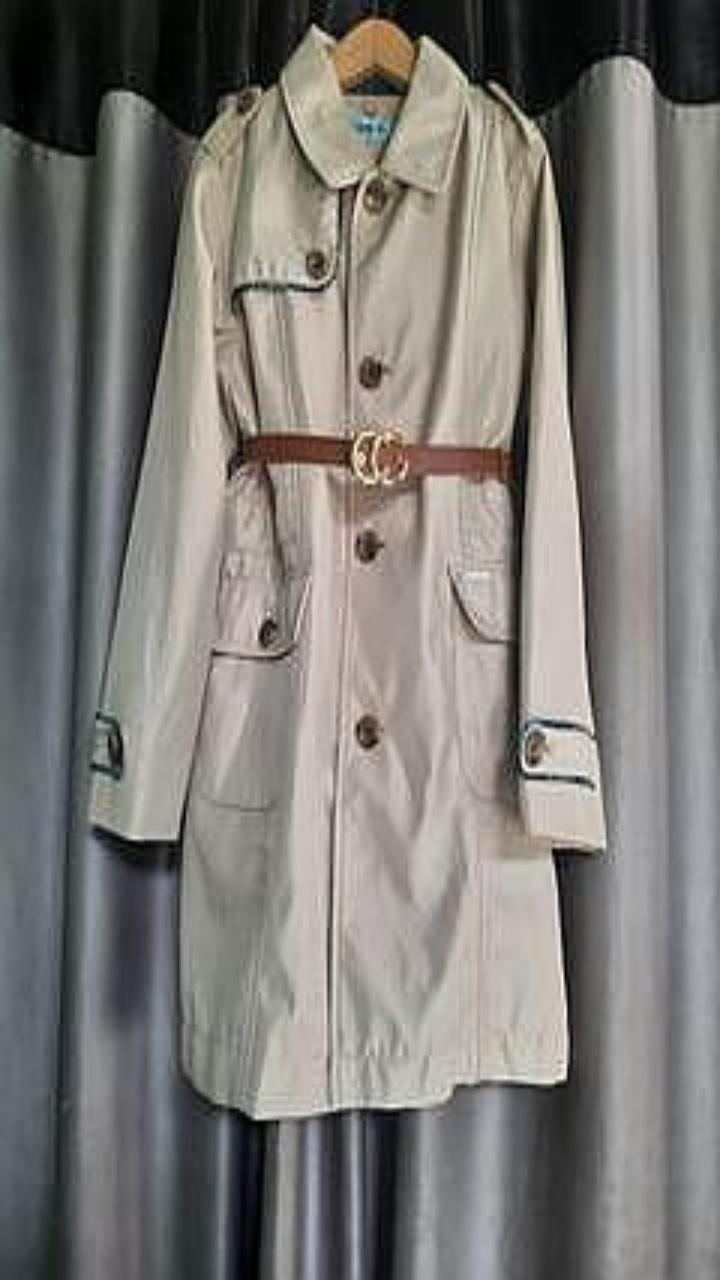Coat: (90, 24, 605, 1117)
